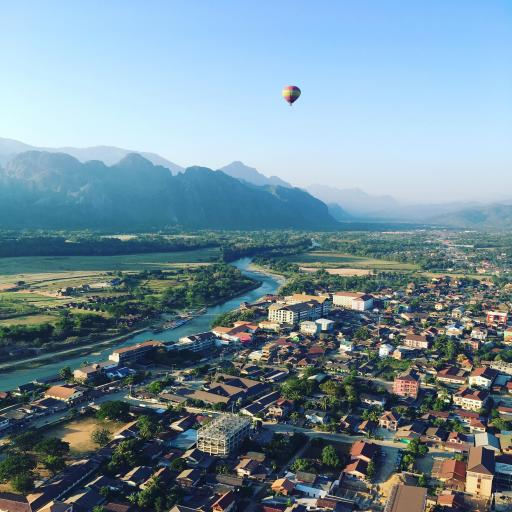hot air ballon: (279, 84, 304, 108)
